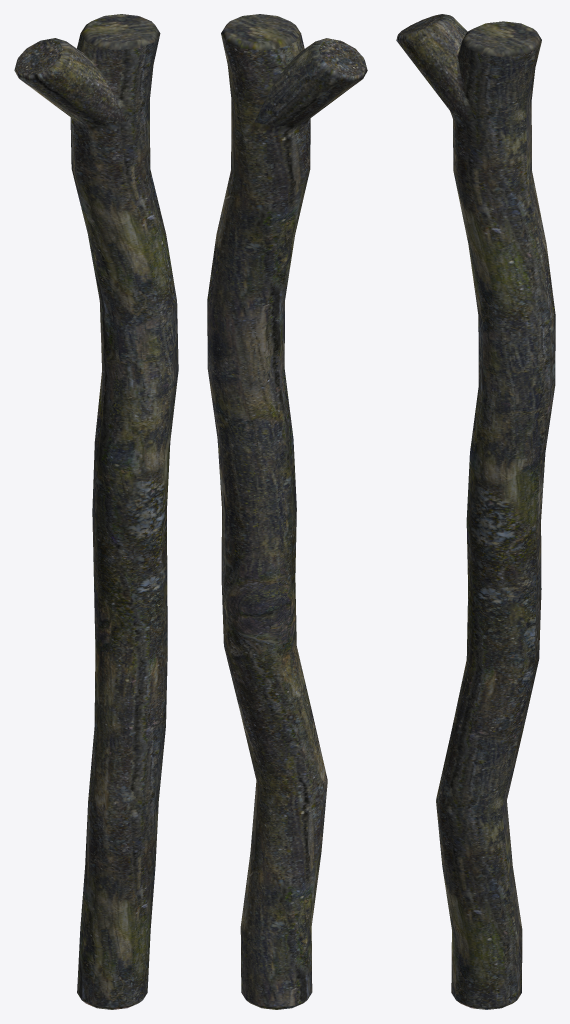
Rendered from FenceVertical_2.fbx.
The picture shows the model from 3 angles, left to right: view 1: azimuth 30°, elevation 25°; view 2: azimuth 150°, elevation 25°; view 3: azimuth 330°, elevation 25°; orthographic projection.
Visible parts, largest first — view 1: FenceVertical.001; view 2: FenceVertical.001; view 3: FenceVertical.001.
Boxes of the visible parts, box(x1,y1,x2,y2) form: FenceVertical.001: box(14, 14, 178, 1009); FenceVertical.001: box(207, 14, 367, 1009); FenceVertical.001: box(396, 14, 555, 1009).
Size of the model in its own units: 18.18 by 110 by 11.39.
